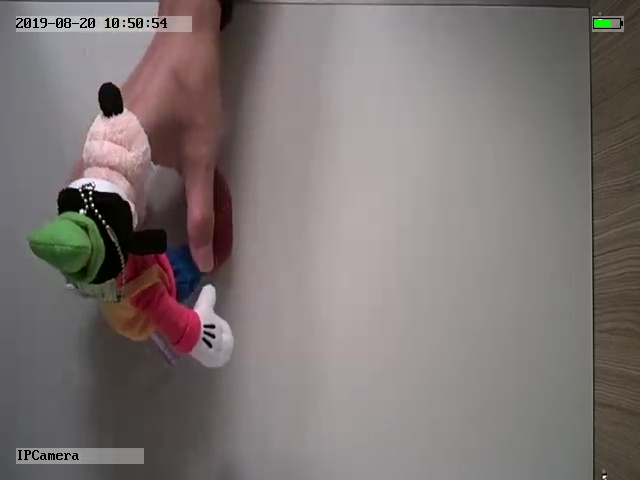goofy: (28, 83, 234, 370)
